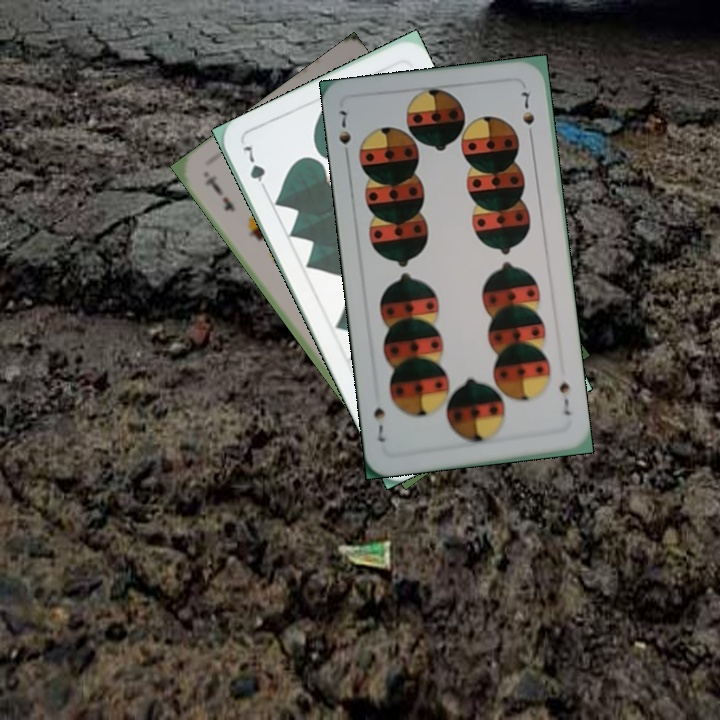E7: (200, 171, 238, 215)
G7: (239, 139, 271, 196)
S7: (335, 106, 353, 163), (555, 378, 573, 418)
